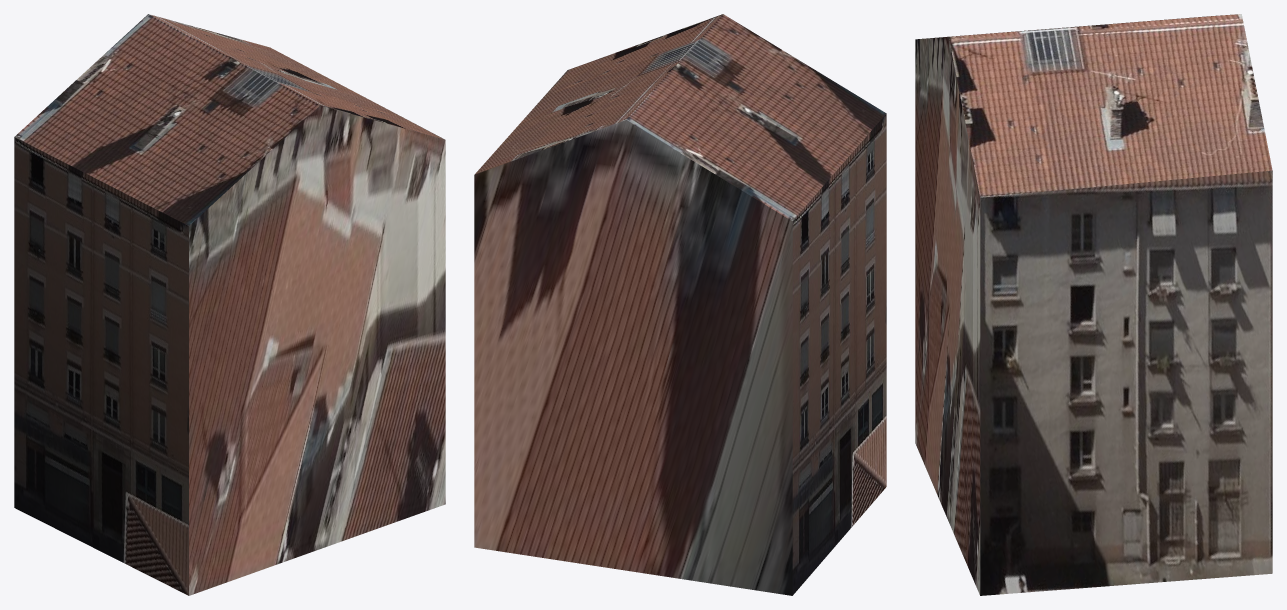
3 renders of one model, left to right at view 1: azimuth 30°, elevation 25°; view 2: azimuth 150°, elevation 25°; view 3: azimuth 270°, elevation 25°, orthographic. The views are drawn at different scales.
Parts seen in each view (by area): view 1: Z_UP; view 2: Z_UP; view 3: Z_UP.
Boxes of the visible parts, x1,y1,x2,y2 form: Z_UP: (14, 14, 445, 595); Z_UP: (474, 14, 886, 595); Z_UP: (915, 14, 1272, 595).
Size of the model in its own units: 17.94 by 23.38 by 15.54.
2 materials, 1 textured.
